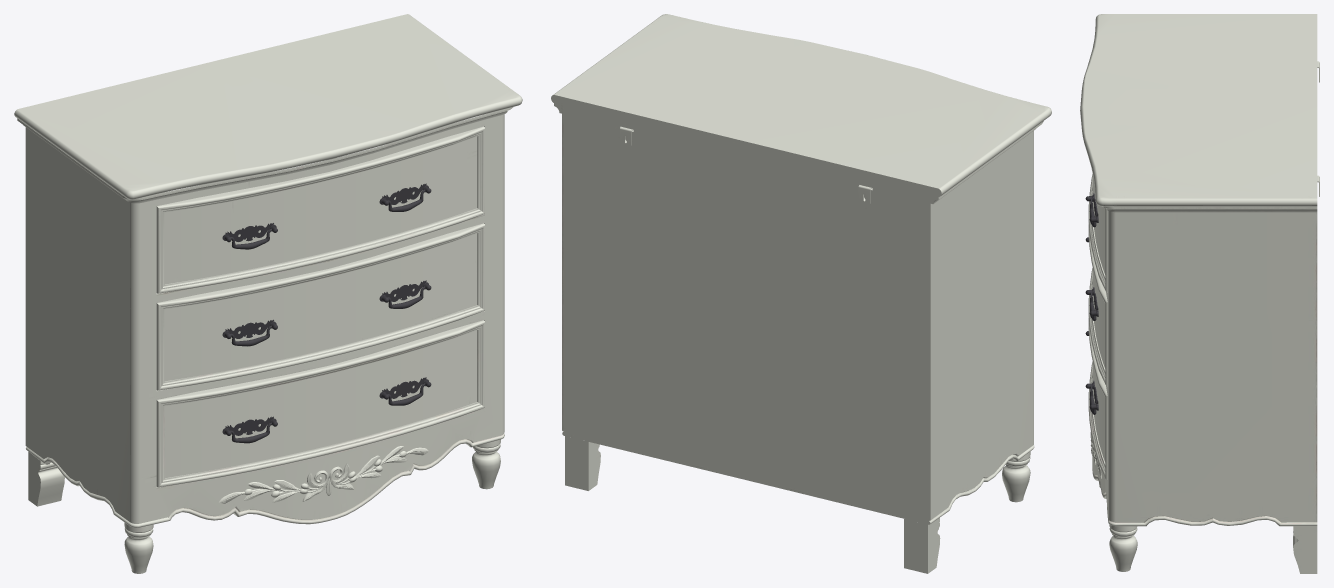
The model's file is example171.glb.
3 renders of one model, left to right at view 1: azimuth 30°, elevation 25°; view 2: azimuth 150°, elevation 25°; view 3: azimuth 270°, elevation 25°, orthographic. The views are drawn at different scales.
Visible parts, largest first — view 1: Buffer Layer, Buffer Layer 1; view 2: Buffer Layer; view 3: Buffer Layer, Buffer Layer 1.
Part boxes in pixels (x1,y1,x2,y2): Buffer Layer: (14, 14, 522, 573); Buffer Layer 1: (222, 183, 431, 443); Buffer Layer: (551, 14, 1051, 573); Buffer Layer: (1080, 14, 1319, 573); Buffer Layer 1: (1085, 193, 1098, 414).
Size of the model in its own units: 1.09 by 1.03 by 0.5897.
Materials: 2 (2 with a texture image).
